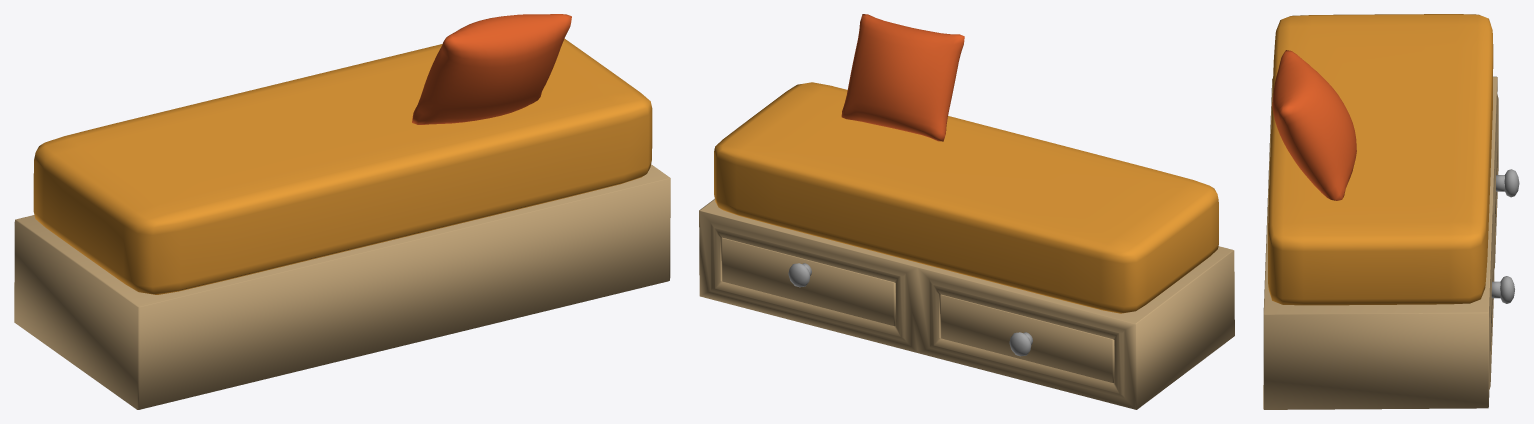
The model's file is Pillow.002_LOD0.fbx.
3 views of the same model, side by side, from view 1: azimuth 30°, elevation 25°; view 2: azimuth 150°, elevation 25°; view 3: azimuth 270°, elevation 25° (orthographic). The views are drawn at different scales.
Parts seen in each view (by area): view 1: Pillow_002; view 2: Pillow_002; view 3: Pillow_002.
Part boxes in pixels (<box>): Pillow_002: <box>14,14,670,409</box>; Pillow_002: <box>699,14,1234,409</box>; Pillow_002: <box>1263,14,1519,409</box>.
Size of the model in its own units: 434 by 225 by 194.
